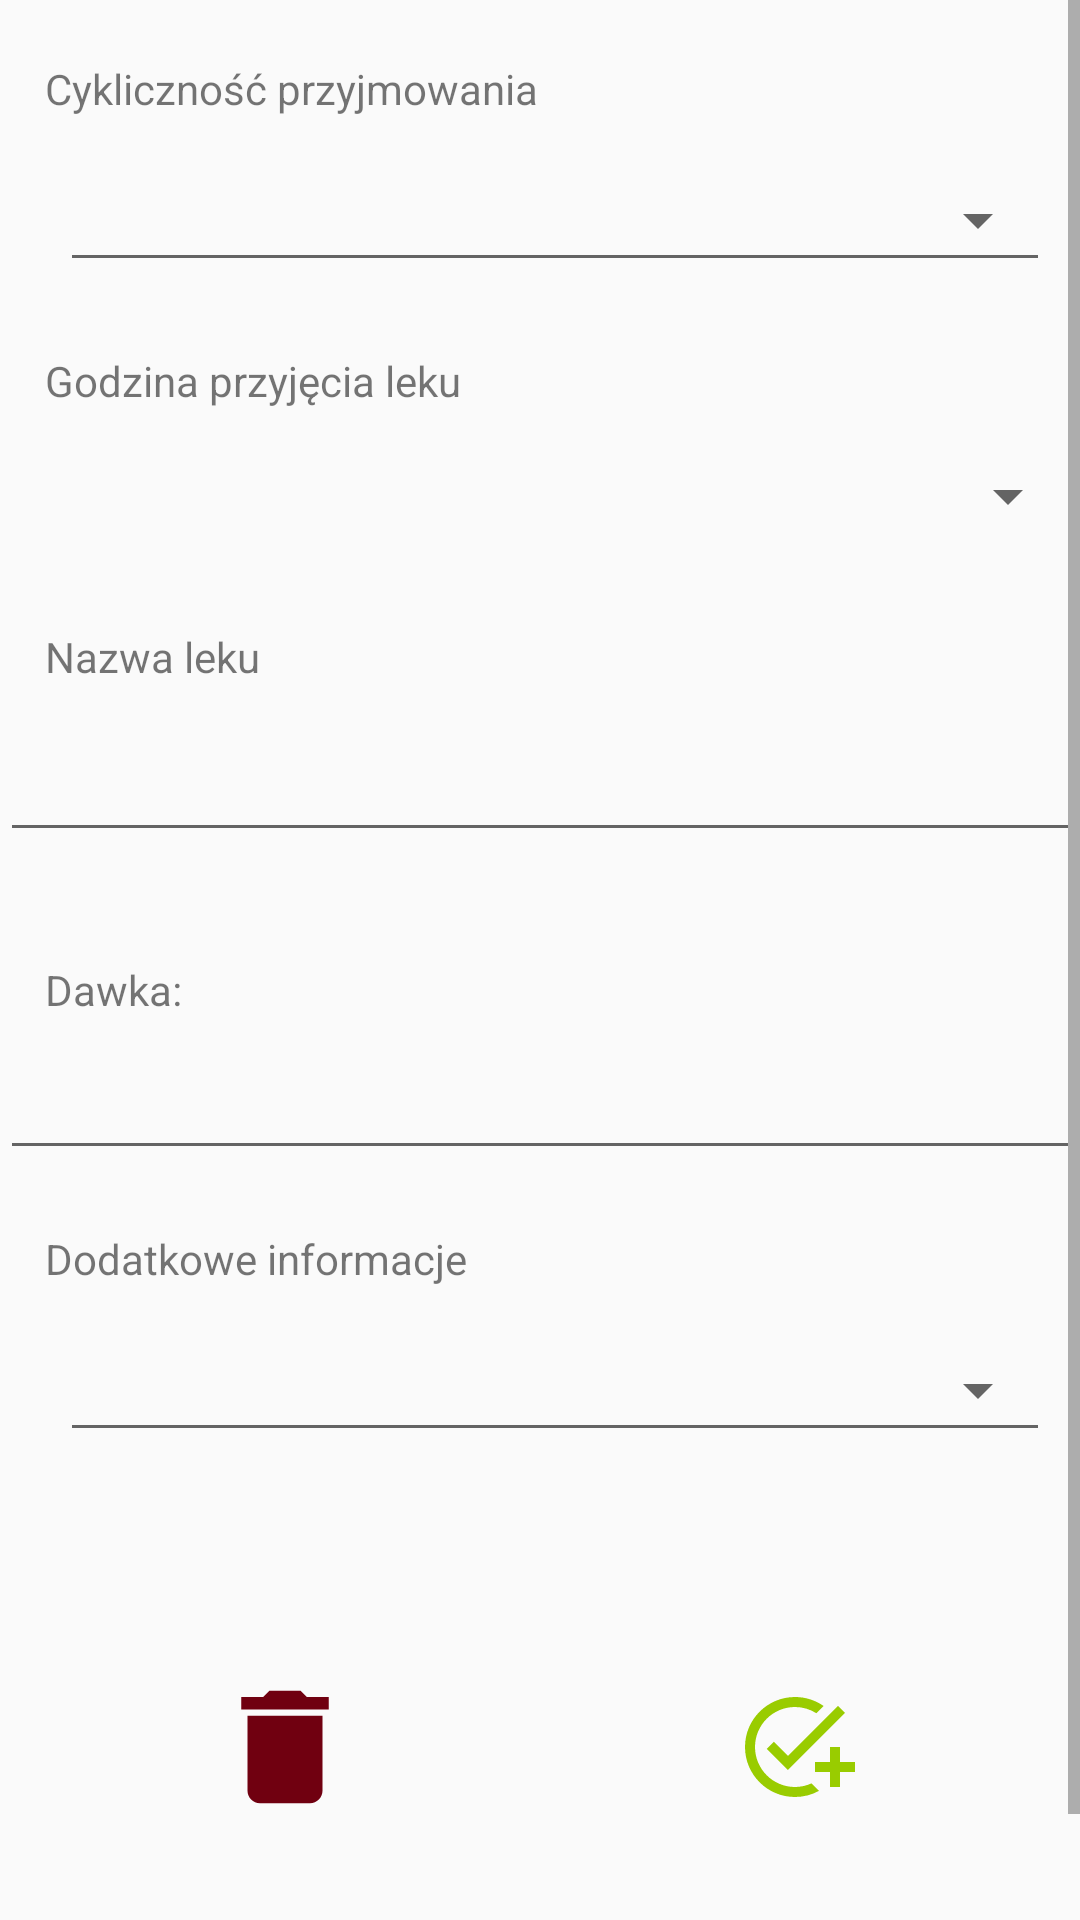

Screen size 1080px×1920px. Icon name, then its center in pixels as (x=x, y=y):
add result: (x=800, y=1747)
delete: (x=285, y=1747)
